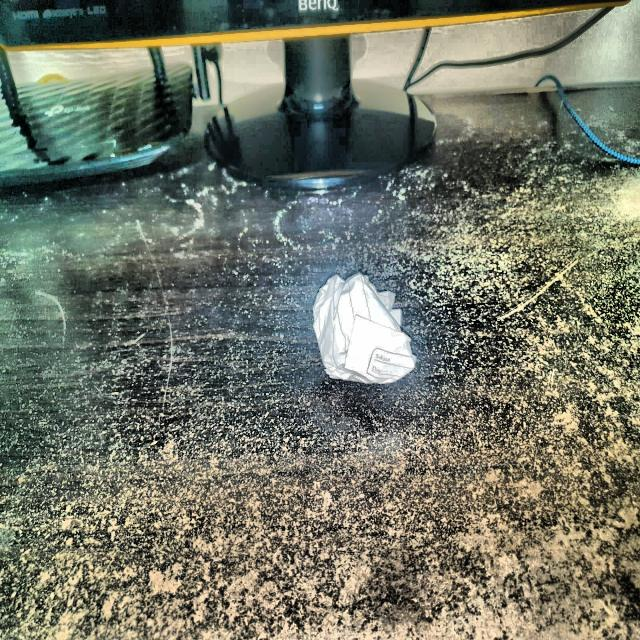Paper: (314, 272, 422, 391)
